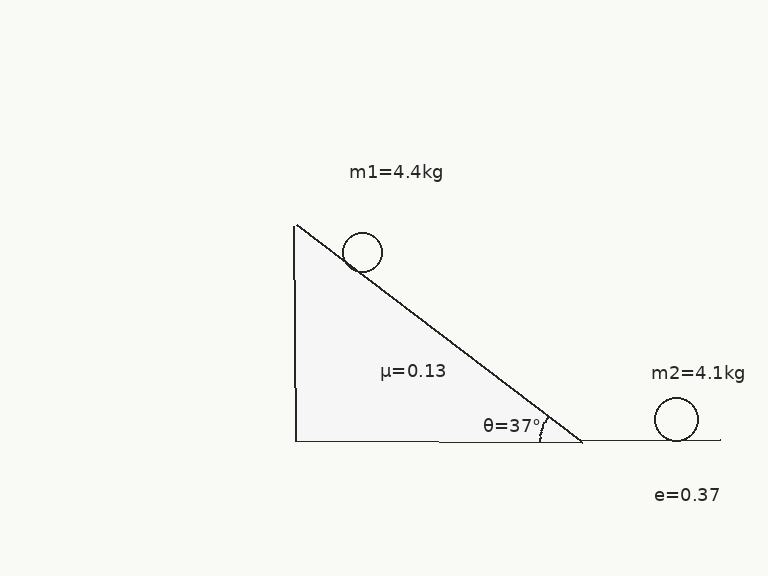ball: (652, 395, 700, 443), (340, 230, 384, 274)
ramp: (293, 224, 582, 443)
